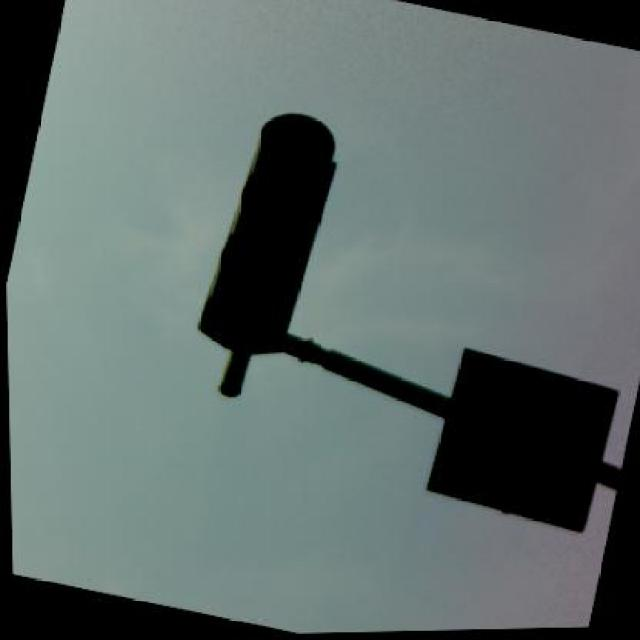red_light: (186, 102, 348, 370)
